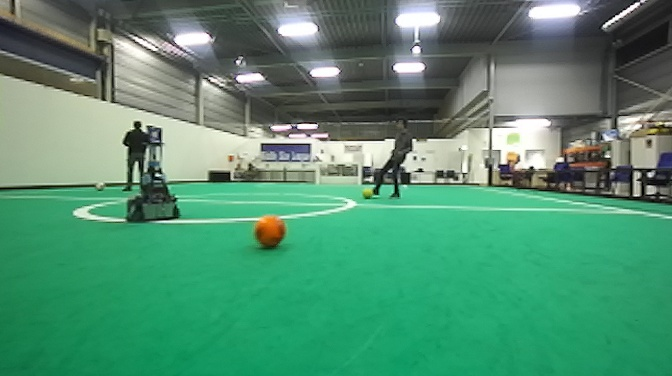ball: (249, 213, 288, 251), (92, 177, 107, 193), (360, 188, 375, 202)
goal: (313, 160, 363, 186)
goalpost: (313, 160, 323, 187), (356, 161, 364, 188)
human: (371, 115, 414, 201), (121, 120, 155, 192)
robot: (123, 138, 181, 226)
